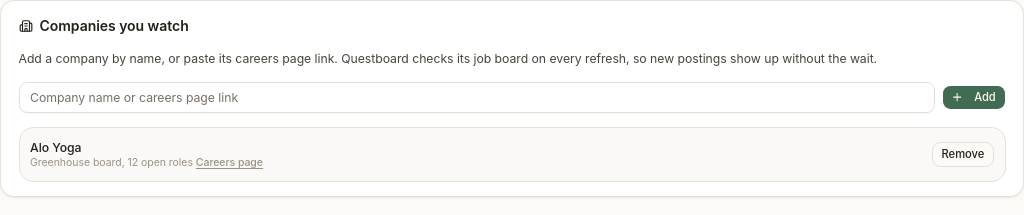
Test case: CompaniesTab › removes a company from the list
The image size is (1024, 215).
Check: the text "Alo Yoga" is shown, box [30,140,82,154]
Click the button with aria-label "Remove Alo Yoga" at (963, 154), box [932,142,994,166]
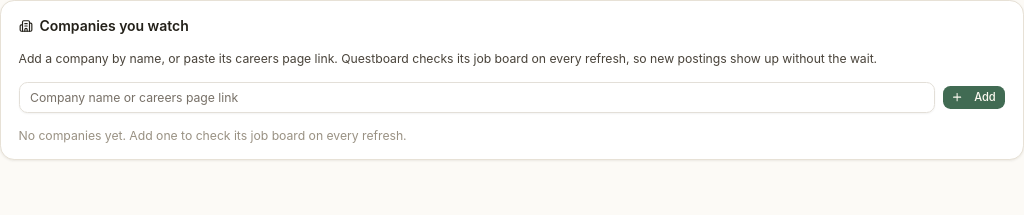
Check: the text "Alo Yoga" is gone
